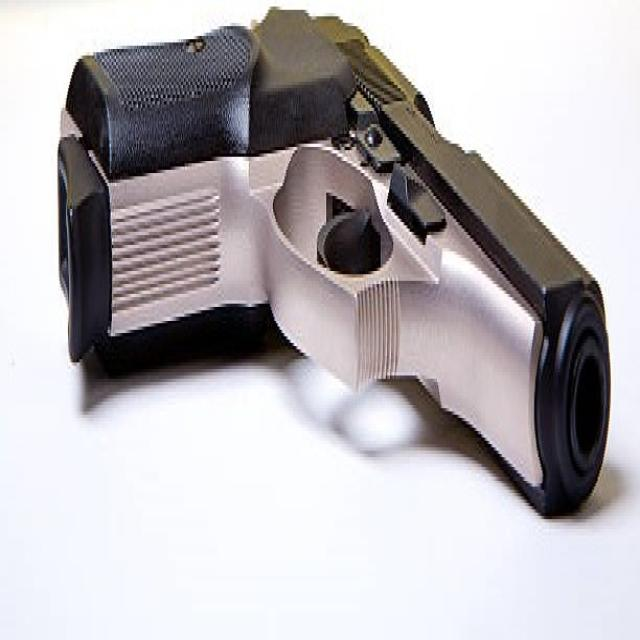pistol: (49, 1, 617, 547)
